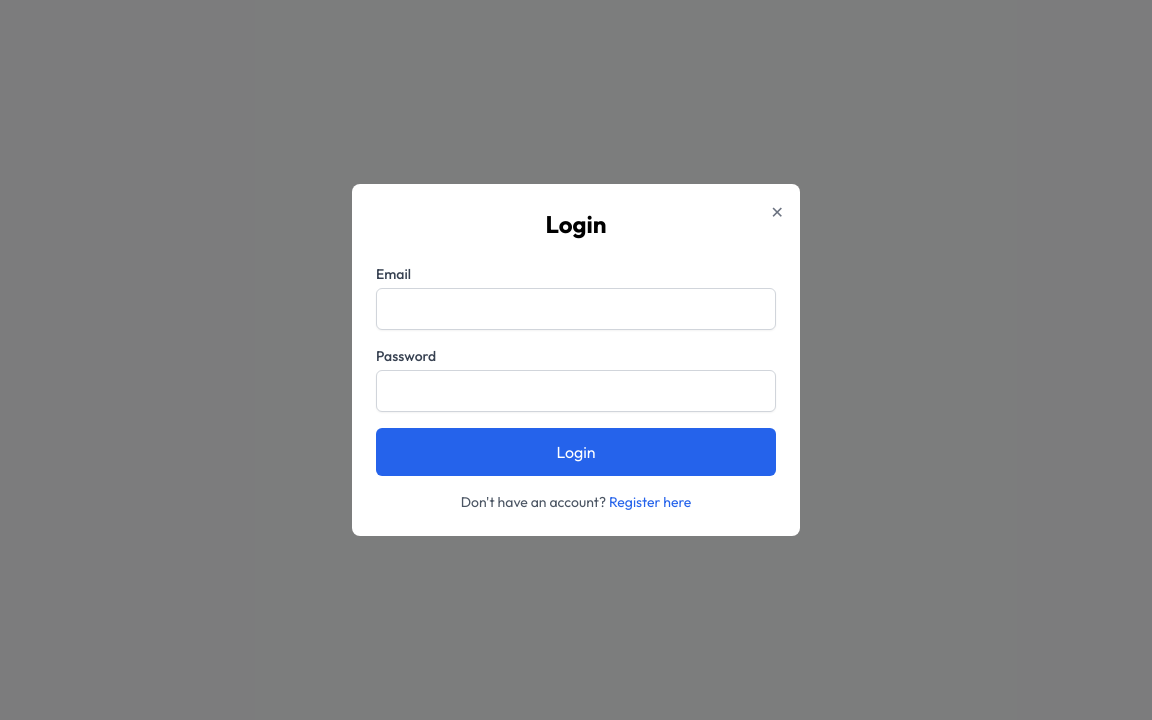
Test: AuthModal Integration Tests › Mode Switching › switches from login to register mode
The image size is (1152, 720).
Check: the heading "Login" is shown, box [545,209,606,239]
Click the button "Register here".
click(650, 502)  # box [609,492,691,512]
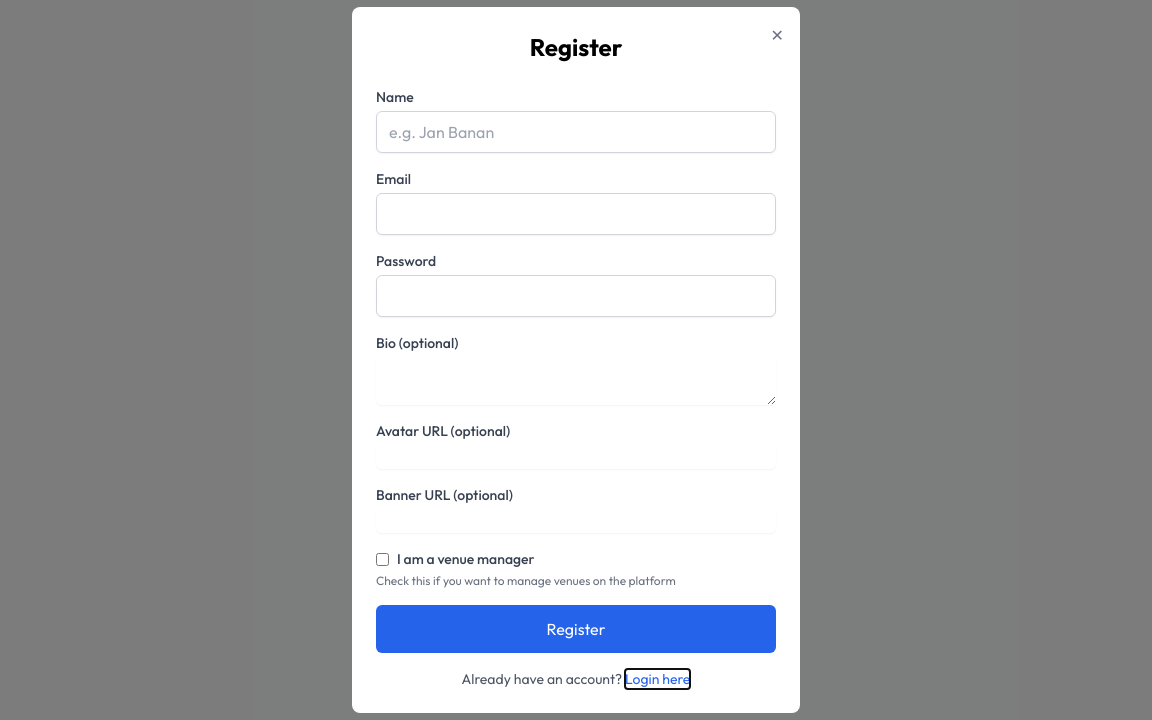
Check: the heading "Register" is shown, box [530,32,622,62]
Check: the text "Name" is shown, box [376,88,414,106]
